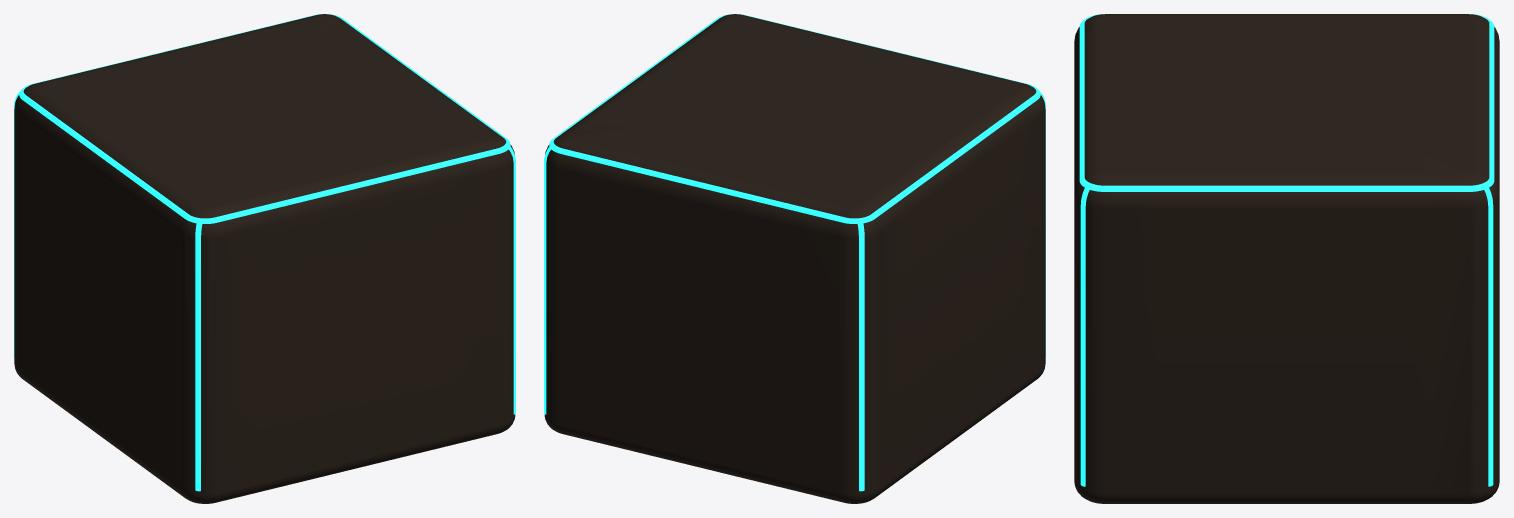
The model's file is SM_NeonBlock.glb.
The picture shows the model from 3 angles, left to right: view 1: azimuth 30°, elevation 25°; view 2: azimuth 150°, elevation 25°; view 3: azimuth 270°, elevation 25°; orthographic projection. The views are drawn at different scales.
Visible parts, largest first — view 1: SM_NeonBlock; view 2: SM_NeonBlock; view 3: SM_NeonBlock.
Boxes of the visible parts, x1,y1,x2,y2 form: SM_NeonBlock: [14, 14, 515, 503]; SM_NeonBlock: [544, 14, 1045, 503]; SM_NeonBlock: [1074, 14, 1499, 503].
Size of the model in its own units: 1.9 by 1.6 by 1.9.
